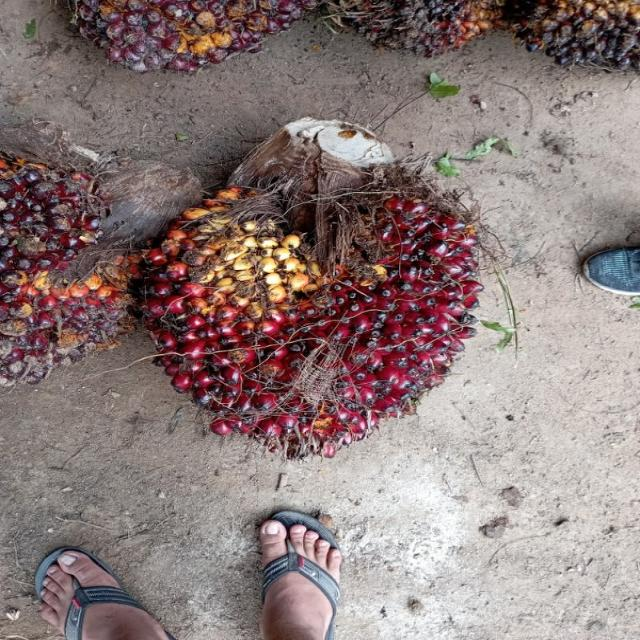fraksi 1: (107, 92, 501, 470)
